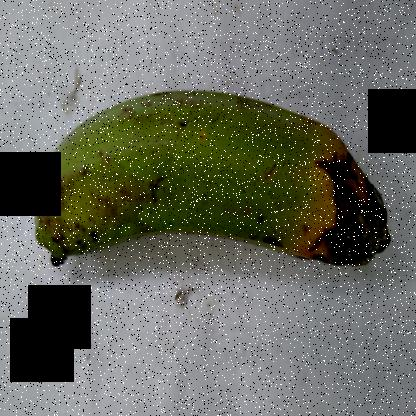rotten: (272, 119, 390, 273)
unripe: (30, 69, 294, 276)
